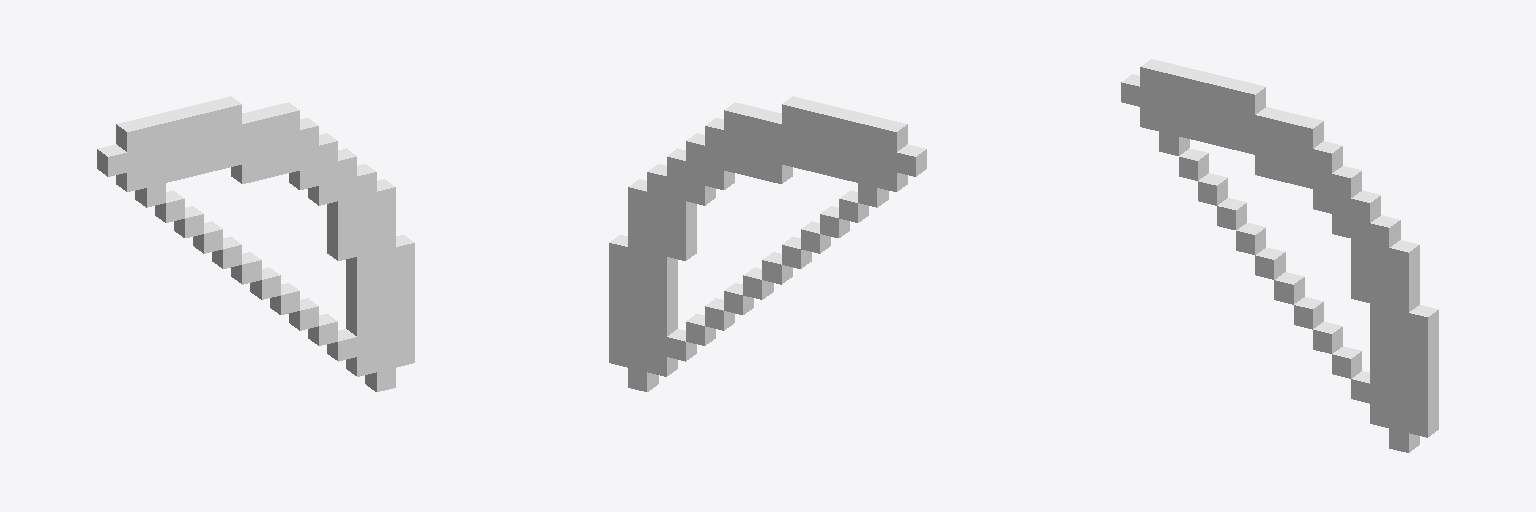
Rendered from bow.obj.
The picture shows the model from 3 angles: view 1: azimuth 30°, elevation 25°; view 2: azimuth 150°, elevation 25°; view 3: azimuth 330°, elevation 25°; orthographic projection.
Size of the model in its own units: 16 by 16 by 1.